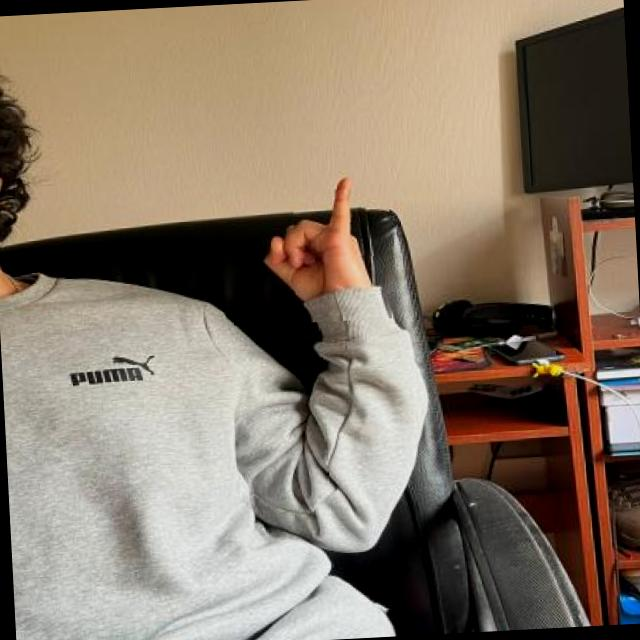I: (258, 168, 396, 324)
